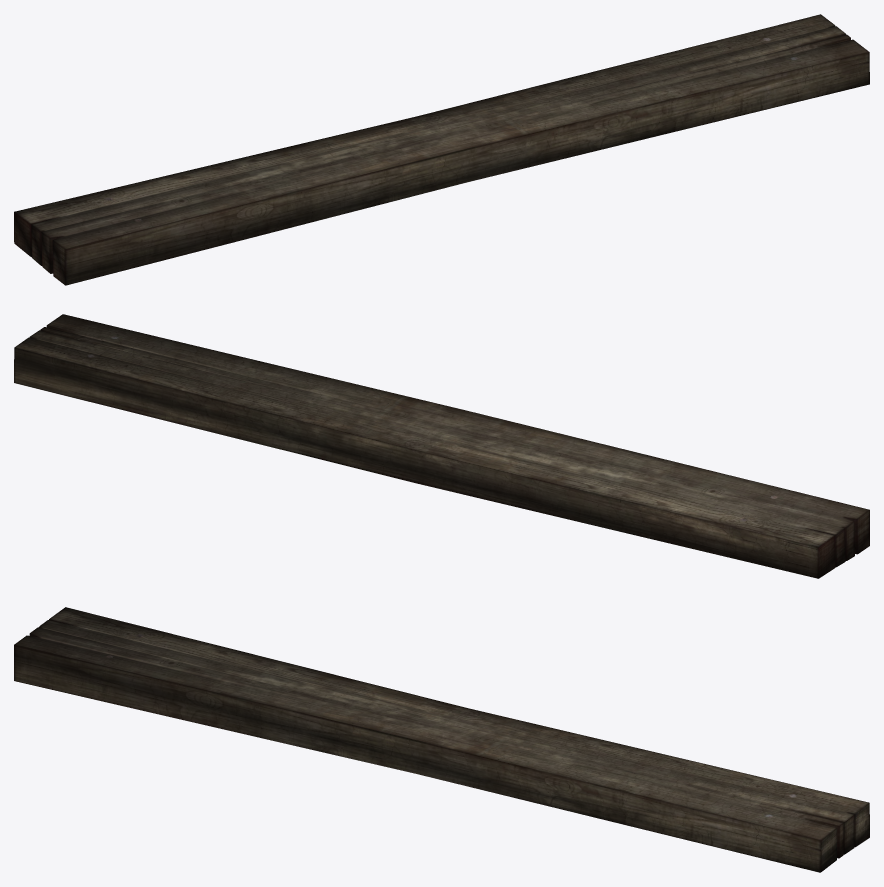
The model's file is plank_1.gltf.
3 renders of one model, top to bottom at view 1: azimuth 30°, elevation 25°; view 2: azimuth 150°, elevation 25°; view 3: azimuth 330°, elevation 25°, orthographic.
Parts seen in each view (by area): view 1: defaultMaterial.003; view 2: defaultMaterial.003; view 3: defaultMaterial.003.
Part boxes in pixels (<box>): defaultMaterial.003: <box>14,14,869,285</box>; defaultMaterial.003: <box>14,314,869,578</box>; defaultMaterial.003: <box>14,607,869,872</box>.
Bounding box in the file's own units: 200 × 9.1 × 22.15.
1 material, 1 textured.
